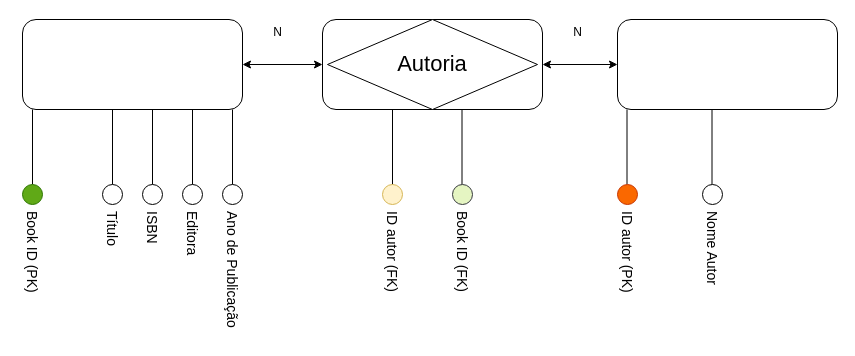
The diagram is 855 pixels wide and 356 high, and some of its shapes have lost their labels. Here are the shapes that lost their labels. From the top down, the centre of each, then its label:
[132,64]: Livro
[727,64]: Autor
